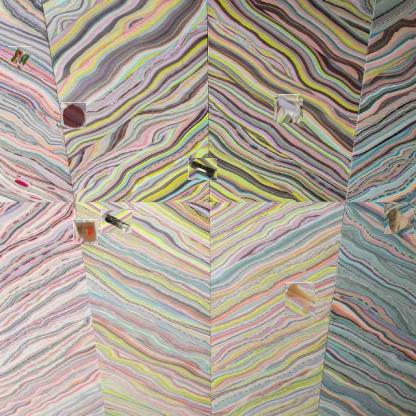dirty: (384, 204, 414, 234), (101, 209, 132, 233), (275, 96, 302, 122), (188, 158, 217, 180), (73, 219, 98, 244), (8, 46, 32, 71)
liquid: (285, 282, 315, 315), (60, 102, 86, 129)
